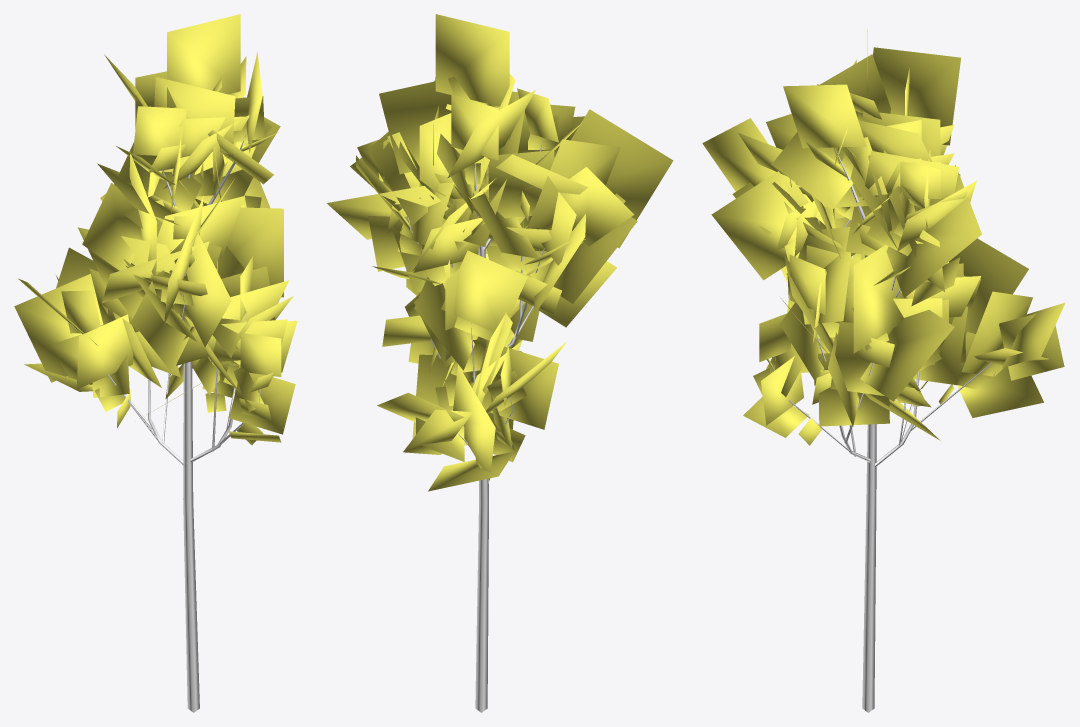
File: aspen_small_v0_lod2.glb
3 renders of one model, left to right at view 1: azimuth 30°, elevation 25°; view 2: azimuth 150°, elevation 25°; view 3: azimuth 270°, elevation 25°, orthographic.
Parts seen in each view (by area): view 1: Leaves, Branches; view 2: Leaves, Branches; view 3: Leaves, Branches.
Boxes of the visible parts, x1,y1,x2,y2 form: Leaves: (14,14,297,444); Branches: (107,133,260,712); Leaves: (326,14,673,491); Branches: (408,138,544,712); Leaves: (702,29,1065,445); Branches: (774,113,1013,712).
Bounding box in the file's own units: 14.31 × 39.27 × 18.95.
